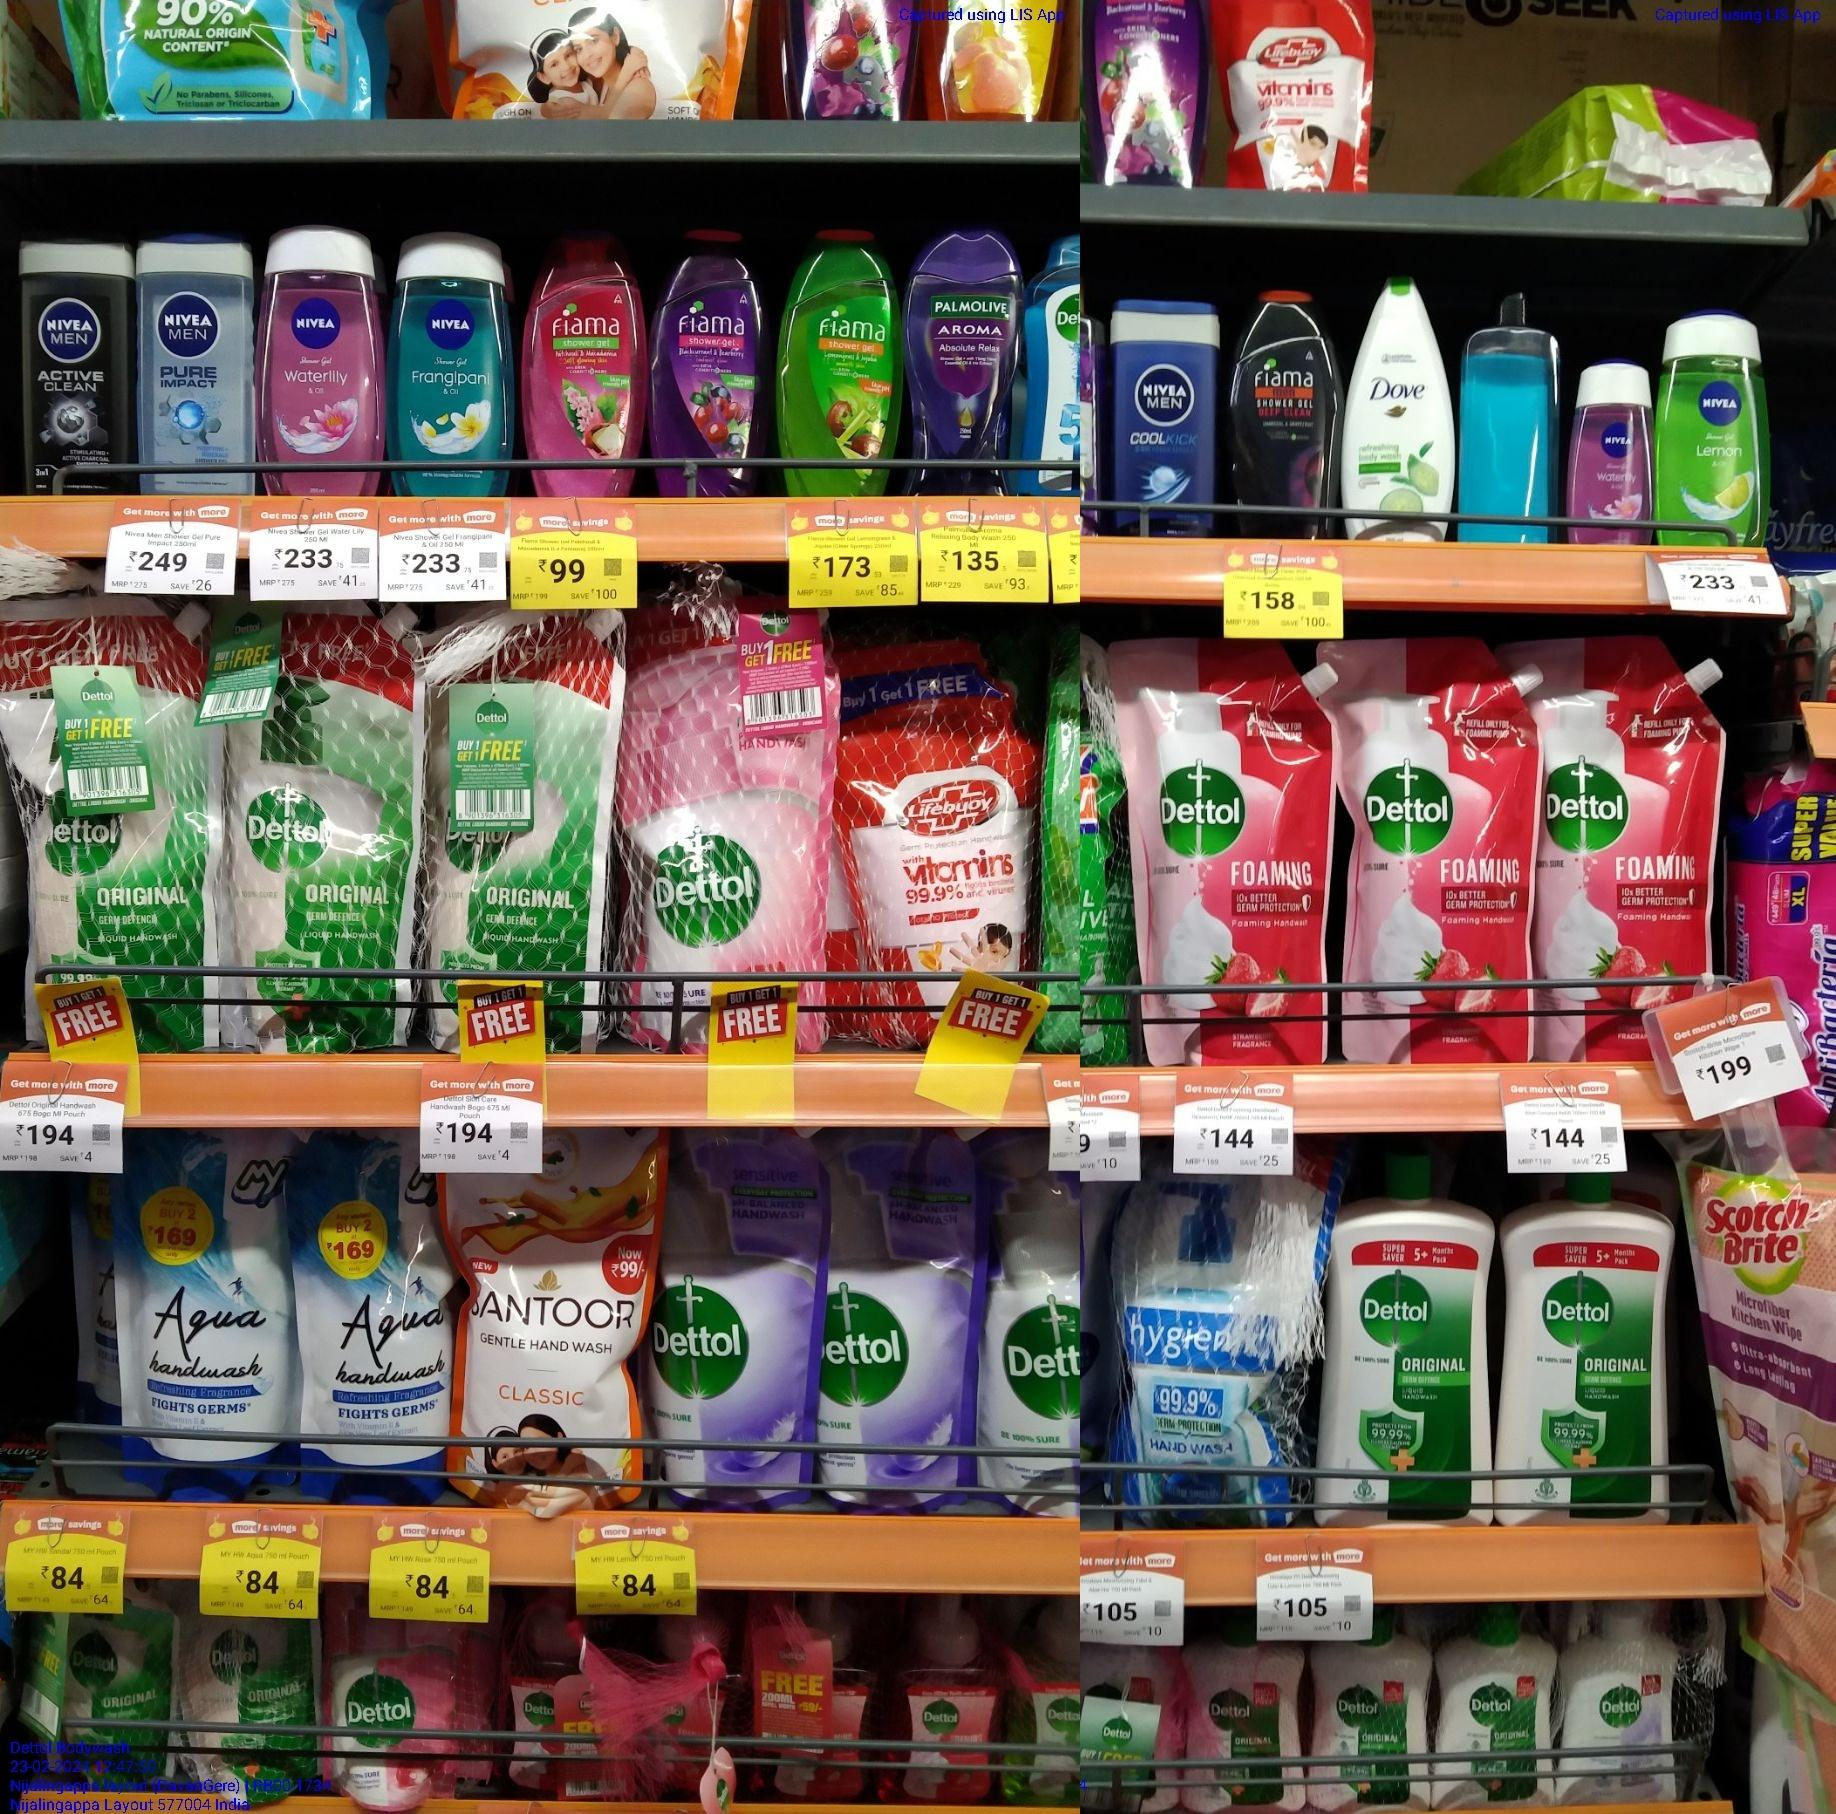Dove_Refreshing_Body_Wash_250ML: (1341, 274, 1452, 552)
Fiama_Shower_Gel_Lemongrass_and_Jojoba_250ML: (784, 213, 896, 497)
Fiama_Shower_Gel_Patchouli_and_Macadamia_250ML: (523, 214, 633, 500)
Nivea_Shower_Gel_Frangipani_and_Oil_250ML: (392, 234, 513, 498)
Nivea_Shower_Gel_Lemon_and_Oil_250ML: (1653, 302, 1770, 548)
Nivea_Shower_Gel_Waterlily_and_Oil_250ML: (263, 223, 384, 508)
Palmolive_Aroma_Relax_250ML: (904, 214, 1024, 495)
